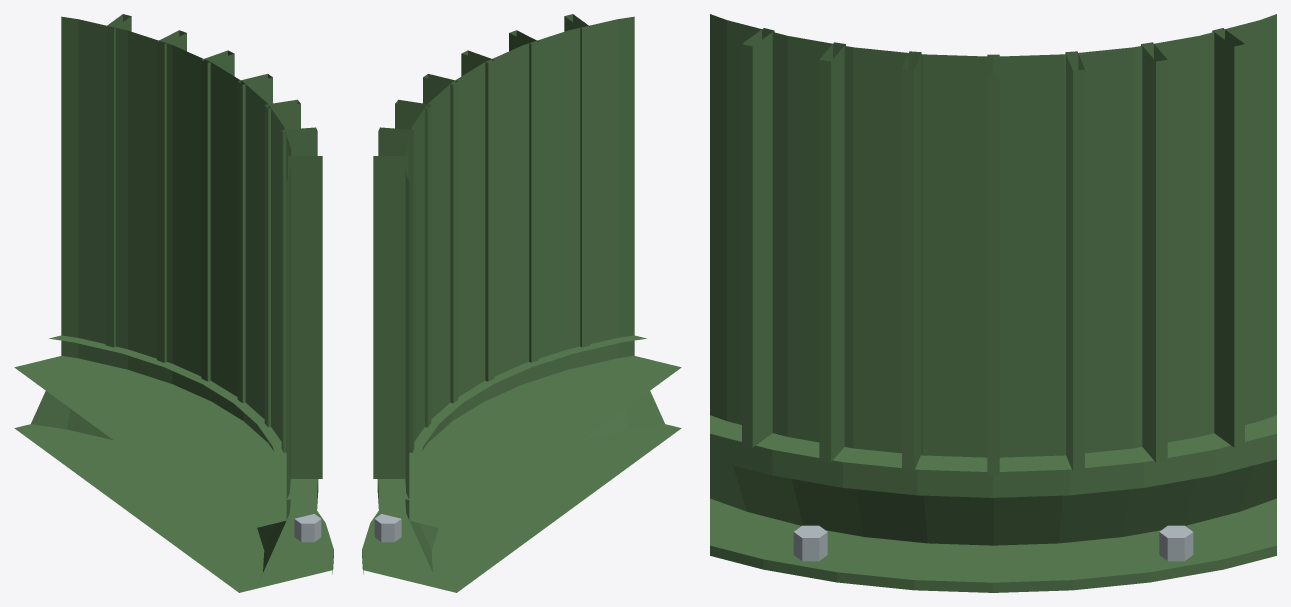
File: cell_38.obj
3 renders of one model, left to right at view 1: azimuth 30°, elevation 25°; view 2: azimuth 150°, elevation 25°; view 3: azimuth 270°, elevation 25°, orthographic. The views are drawn at different scales.
Size of the model in its own units: 0.3944 by 1 by 1.
